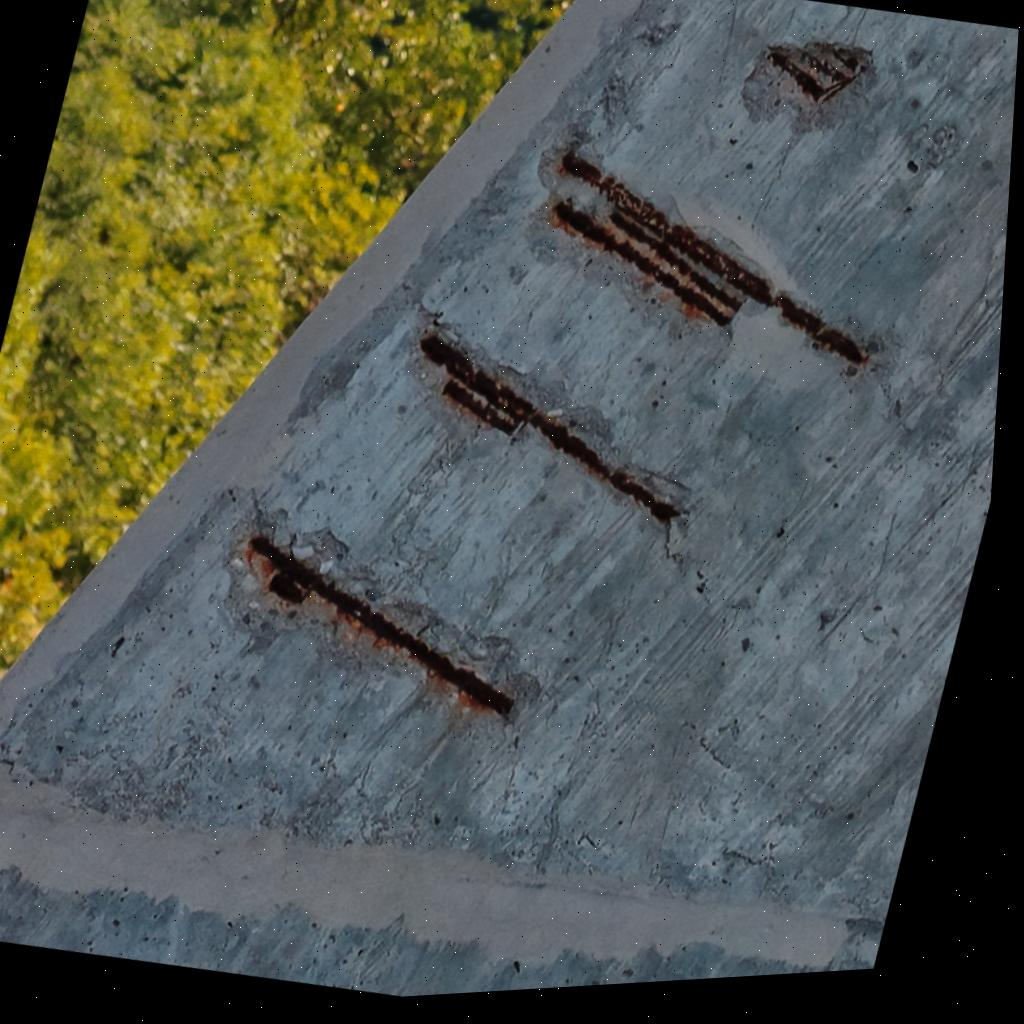exposed_rebar: (554, 151, 868, 365), (420, 333, 679, 522), (250, 536, 515, 715), (769, 41, 869, 101)
spalling: (525, 145, 868, 366), (225, 515, 541, 720), (418, 322, 685, 526), (743, 40, 874, 132)
